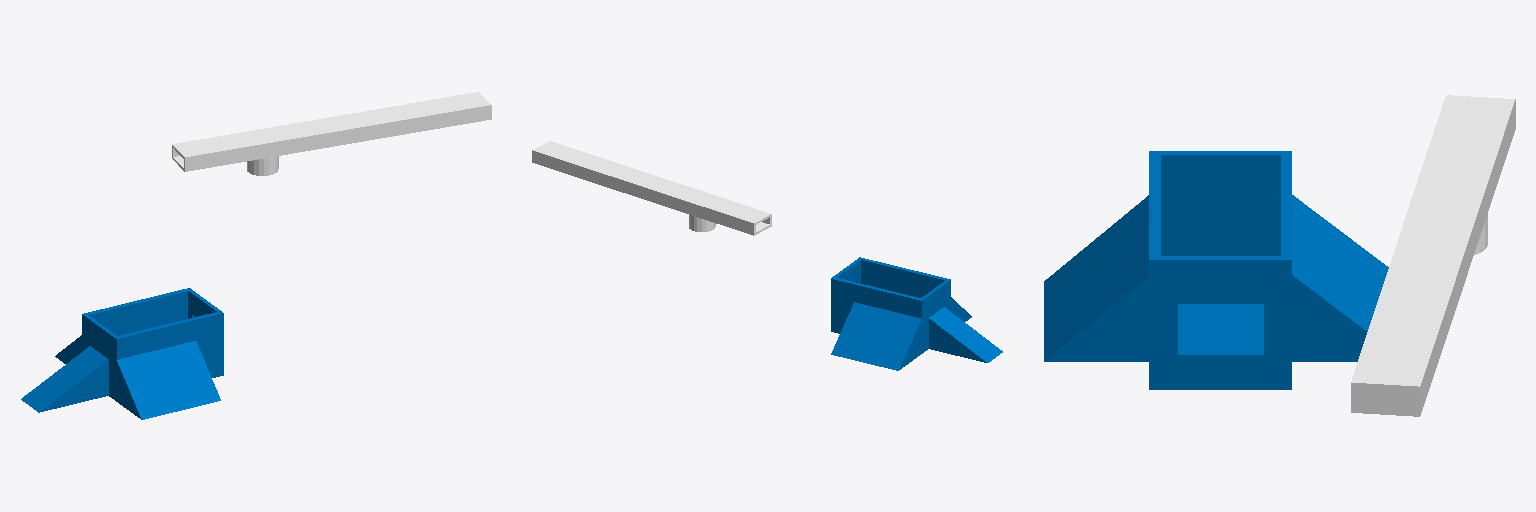
The robot description file, URDF, robot "single-joint":
<?xml version="1.0" ?>
<robot name="single-joint"
    xmlns:xacro="http://www.ros.org/wiki/xacro">

    <material name="cyan">
        <color rgba="0 0.5 .8 1"/>
    </material>
    <material name="white">
        <color rgba="1 1 1 1"/>
    </material>


    <link name="base_link">
    </link>
    <link name="robot_link0">
        <visual>
            <geometry>
                <!-- Set scale to 0.001 as tinker cad STL exports are in mm units -->
                <mesh scale="0.001 0.001 0.001" filename="package://single_joint_demo/resources/single-joint-robot/base-visual.stl" />
            </geometry>
            <material name="cyan"/>
        </visual>
        <collision>
            <geometry>
                <mesh scale="0.001 0.001 0.001" filename="package://single_joint_demo/resources/single-joint-robot/base-collision.stl" />
            </geometry>
        </collision>
    </link>
    <joint name="base_join" type="fixed">
        <origin rpy="0 0 0" xyz="0 0 0" />
        <parent link="base_link" />
        <child link="robot_link0" />
    </joint>
    <link name="robot_link1">
        <visual>
            <geometry>
                <!-- Set scale to 0.001 as tinker cad STL exports are in mm units -->
                <mesh scale="0.001 0.001 0.001" filename="package://single_joint_demo/resources/single-joint-robot/arm-visual.stl" />
            </geometry>
            <material name="white"/>
            <origin rpy="0 0 -0.139" xyz="-0.0315 -0.00095 0" />
        </visual>
        <collision>
            <geometry>
                <mesh scale="0.001 0.001 0.001" filename="package://single_joint_demo/resources/single-joint-robot/arm-collision.stl" />
            </geometry>
        </collision>
    </link>
    <joint name="joint1" type="revolute">
        <safety_controller k_position="0" k_velocity="40.0" soft_lower_limit="0" soft_upper_limit="-2.79" />
        <origin rpy="0 0 0" xyz="0.031125 0.005125 0" />
        <parent link="robot_link0" />
        <child link="robot_link1" />
        <axis xyz="0 0 1" />
        <limit effort="87" lower="0" upper="2.95" velocity="2.3925" />
    </joint>

</robot>

--- Render facts (derived) ---
3 views of the same robot in one strip: view 1: azimuth 30°, elevation 25°; view 2: azimuth 150°, elevation 25°; view 3: azimuth 270°, elevation 25° (orthographic).
Model single-joint with 3 links and 2 joints (1 revolute, 1 fixed), rooted at base_link, posed all joints at 0.
Visible links, largest first — view 1: robot_link0, robot_link1; view 2: robot_link0, robot_link1; view 3: robot_link0, robot_link1.
Boxes of the visible links, bbox=[...] form: robot_link0: bbox=[21, 288, 223, 419]; robot_link1: bbox=[172, 92, 491, 175]; robot_link0: bbox=[831, 257, 1002, 370]; robot_link1: bbox=[532, 141, 771, 235]; robot_link0: bbox=[1044, 151, 1388, 389]; robot_link1: bbox=[1351, 95, 1515, 416].
Bounding box of the posed robot: 0.1249 × 0.0494 × 0.0379 m (x, y, z).
Meshes: 2 distinct files referenced, 2 mesh visuals loaded (2 binary STL).